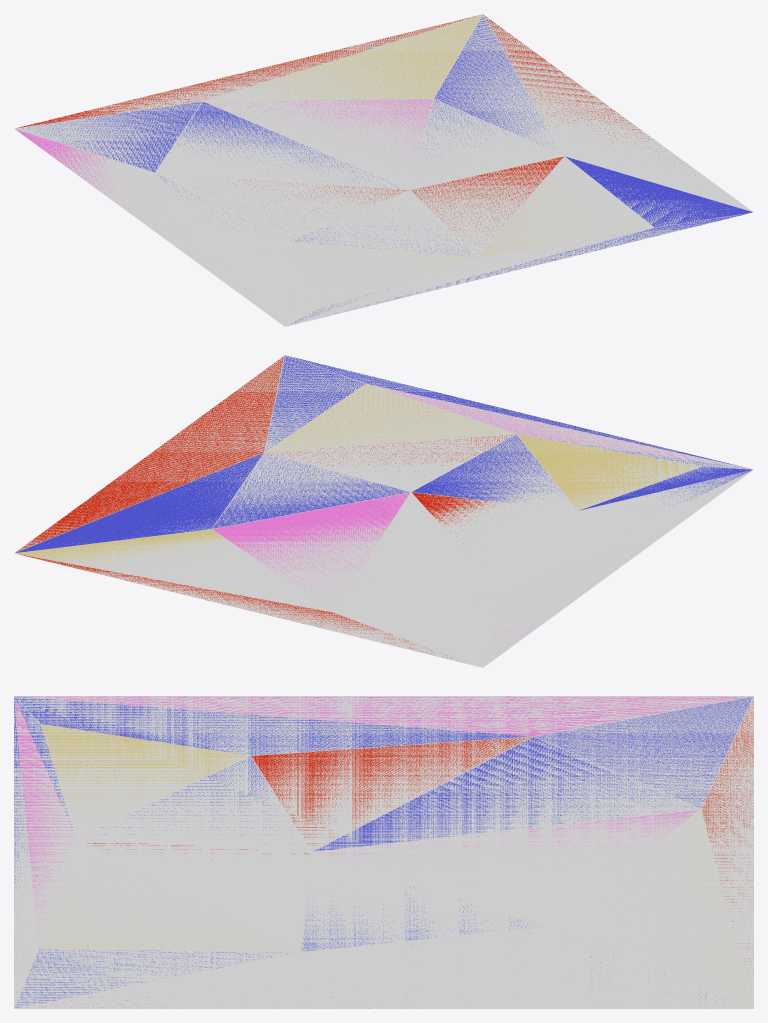
The model's file is nuovaMappaExample.gltf.
The picture shows the model from 3 angles, top to bottom: view 1: azimuth 30°, elevation 25°; view 2: azimuth 150°, elevation 25°; view 3: azimuth 270°, elevation 25°; orthographic projection. The views are drawn at different scales.
Parts seen in each view (by area): view 1: Plane, Plane.001; view 2: Plane, Plane.001; view 3: Plane, Plane.001.
Part boxes in pixels (box(x1,y1,x2,y2)): Plane: box(14, 14, 753, 326); Plane.001: box(16, 15, 752, 324); Plane: box(14, 355, 753, 667); Plane.001: box(15, 355, 752, 666); Plane: box(14, 696, 753, 1008); Plane.001: box(14, 696, 753, 1007).
Bounding box in the file's own units: 19.36 × 0 × 19.36.
